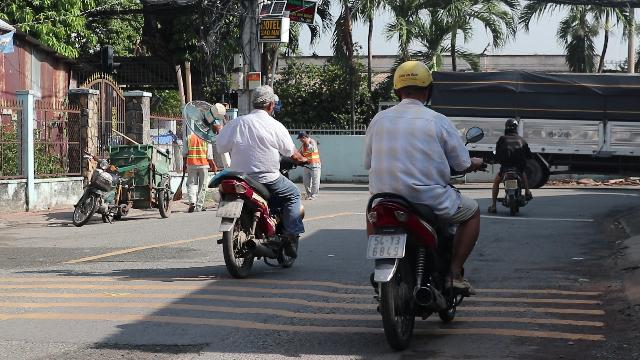helmet: (390, 60, 434, 104)
licenseplate: (367, 234, 405, 258), (216, 202, 242, 217)
motorcyclist: (356, 59, 486, 348), (208, 82, 308, 274)
nohelmet: (249, 84, 279, 116)
